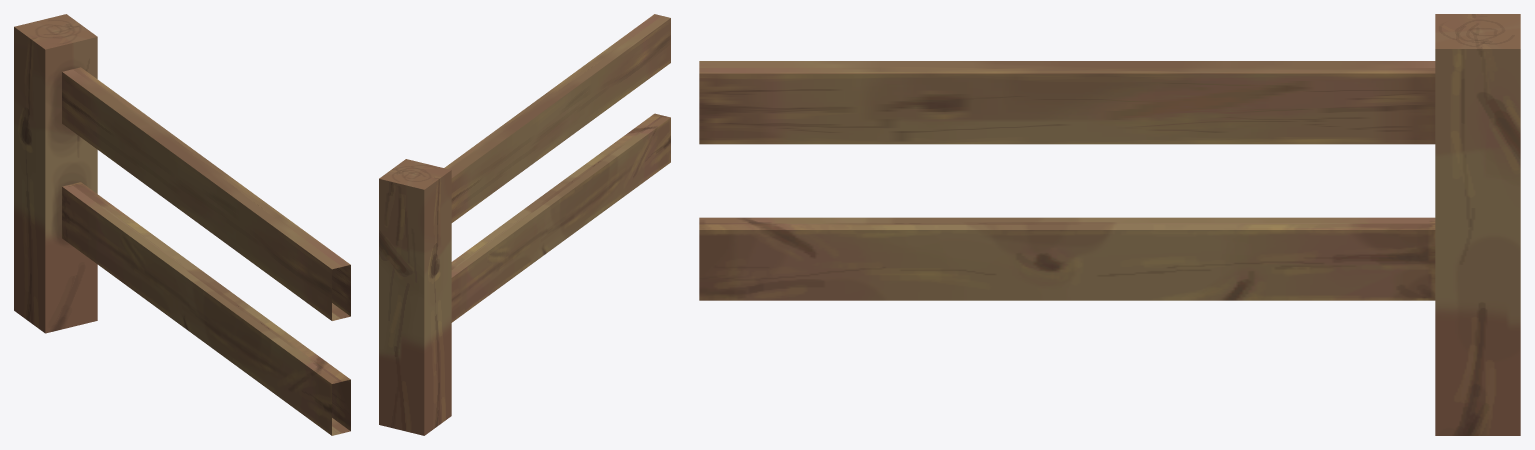
File: cerca.fbx
The picture shows the model from 3 angles, left to right: view 1: azimuth 30°, elevation 25°; view 2: azimuth 150°, elevation 25°; view 3: azimuth 270°, elevation 25°; orthographic projection. The views are drawn at different scales.
Visible parts, largest first — view 1: Cube.001; view 2: Cube.001; view 3: Cube.001.
Boxes of the visible parts, x1=… form: Cube.001: x1=14, y1=14, x2=350, y2=435; Cube.001: x1=379, y1=14, x2=670, y2=435; Cube.001: x1=699, y1=14, x2=1520, y2=435.
Bounding box in the file's own units: 671 × 67.41 × 349.
1 material, 1 textured.
